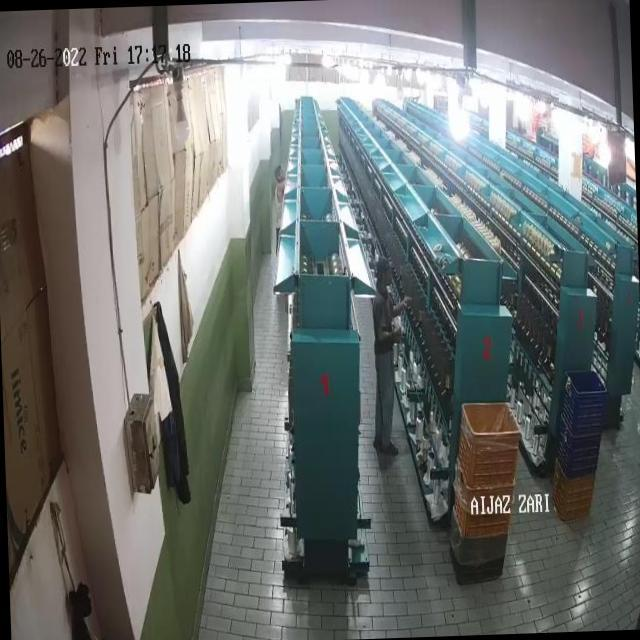person: (370, 258, 400, 460)
